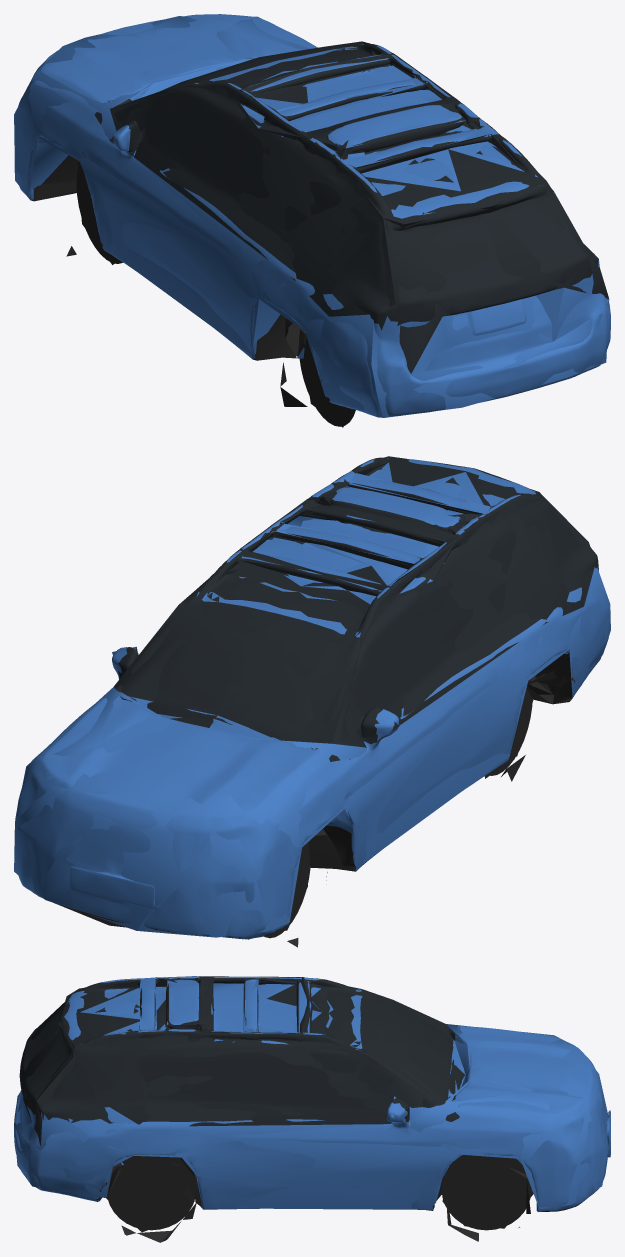
File: subaru-forester.glb
3 renders of one model, top to bottom at view 1: azimuth 30°, elevation 25°; view 2: azimuth 150°, elevation 25°; view 3: azimuth 270°, elevation 25°, orthographic. The views are drawn at different scales.
Parts seen in each view (by area): view 1: body, far; view 2: body, far; view 3: body, far.
Boxes of the visible parts, bbox=[...] form: body: bbox=[14, 14, 610, 426]; far: bbox=[14, 16, 609, 427]; body: bbox=[15, 457, 609, 947]; far: bbox=[14, 456, 610, 937]; body: bbox=[14, 976, 610, 1242]; far: bbox=[14, 976, 608, 1242].
Size of the model in its own units: 1.97 by 1.72 by 4.64.
